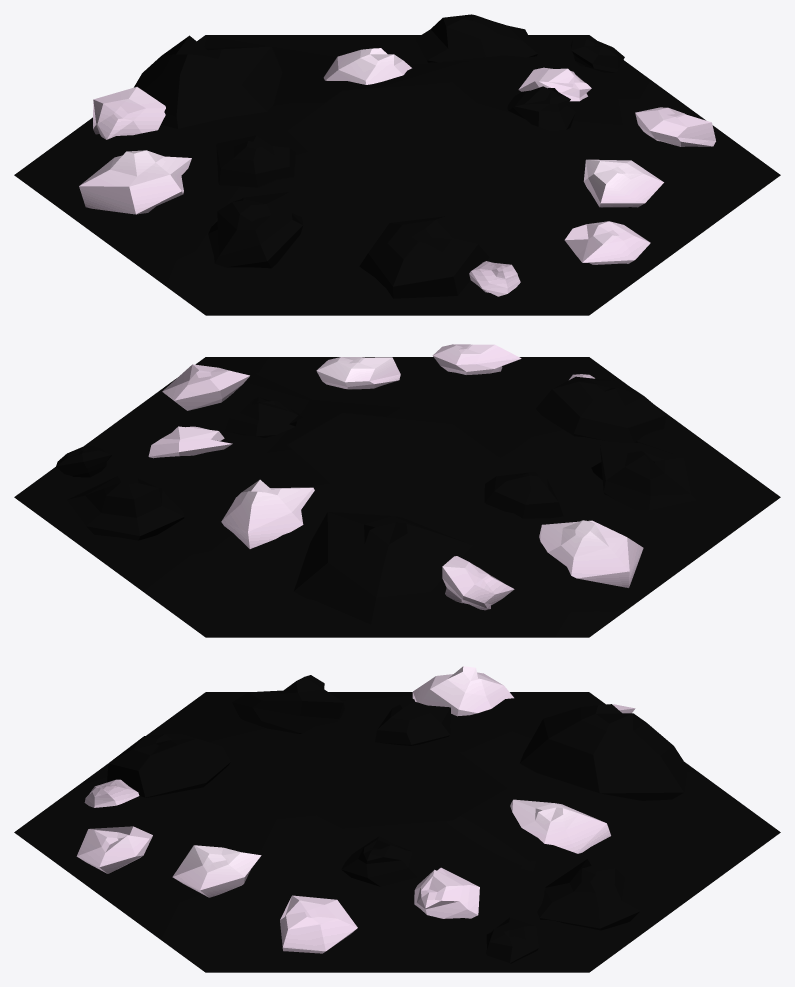
File: RocksCol.fbx
3 renders of one model, top to bottom at view 1: azimuth 30°, elevation 25°; view 2: azimuth 150°, elevation 25°; view 3: azimuth 270°, elevation 25°, orthographic.
Visible parts, largest first — view 1: Ground, Rock.004, Rock, Rock.008, Rock.007, Rock.014, Rock.006, Rock.002, Rock.005, Rock.003, Rock.010, Rock.013 (+4 smaller); view 2: Ground, Rock.004, Rock, Rock.008, Rock.014, Rock.007, Rock.013, Rock.006, Rock.010, Rock.005, Rock.002, Rock.003 (+3 smaller); view 3: Ground, Rock.004, Rock, Rock.014, Rock.008, Rock.010, Rock.013, Rock.007, Rock.002, Rock.011, Rock.006, Rock.012 (+3 smaller).
Boxes of the visible parts, <box> form: Ground: <box>14,35,780,315</box>; Rock.004: <box>134,35,282,128</box>; Rock: <box>359,216,489,298</box>; Rock.008: <box>208,192,303,268</box>; Rock.007: <box>79,150,191,214</box>; Rock.014: <box>415,14,537,62</box>; Rock.006: <box>216,135,295,187</box>; Rock.002: <box>583,159,663,207</box>; Rock.005: <box>93,87,165,139</box>; Rock.003: <box>564,221,650,264</box>; Rock.010: <box>635,107,715,146</box>; Rock.013: <box>323,48,411,84</box>; Ground: <box>14,357,780,637</box>; Rock.004: <box>293,512,475,624</box>; Rock: <box>536,376,666,442</box>; Rock.008: <box>591,441,698,510</box>; Rock.014: <box>67,476,184,540</box>; Rock.007: <box>539,520,643,587</box>; Rock.013: <box>221,479,314,548</box>; Rock.006: <box>484,472,563,518</box>; Rock.010: <box>162,364,249,410</box>; Rock.005: <box>442,556,514,610</box>; Rock.002: <box>316,357,400,389</box>; Rock.003: <box>432,344,521,374</box>; Ground: <box>14,692,780,972</box>; Rock.004: <box>520,704,687,800</box>; Rock: <box>107,733,230,797</box>; Rock.014: <box>537,859,640,930</box>; Rock.008: <box>232,675,344,733</box>; Rock.010: <box>280,895,357,953</box>; Rock.013: <box>510,799,610,853</box>; Rock.007: <box>412,666,513,716</box>; Rock.002: <box>172,845,261,897</box>; Rock.011: <box>341,836,421,886</box>; Rock.006: <box>375,701,451,745</box>; Rock.012: <box>414,867,479,918</box>.
Bounding box in the file's own units: 162 × 26.9 × 187.
